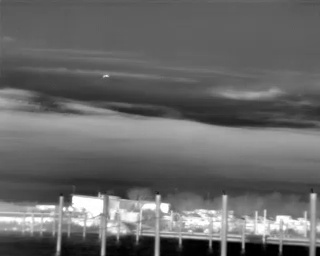BIRD: (101, 71, 111, 81)
